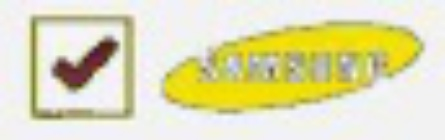CheckBox: (1, 1, 444, 139)
